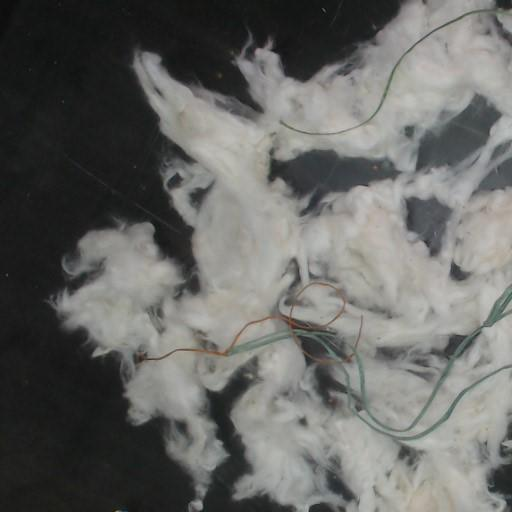conveyor belt: (204, 376, 286, 511), (273, 152, 395, 205), (418, 97, 496, 168), (408, 199, 448, 250), (480, 158, 511, 189), (493, 464, 511, 511)
cotton: (55, 0, 511, 511)
thread: (137, 278, 511, 441), (280, 8, 493, 135)
